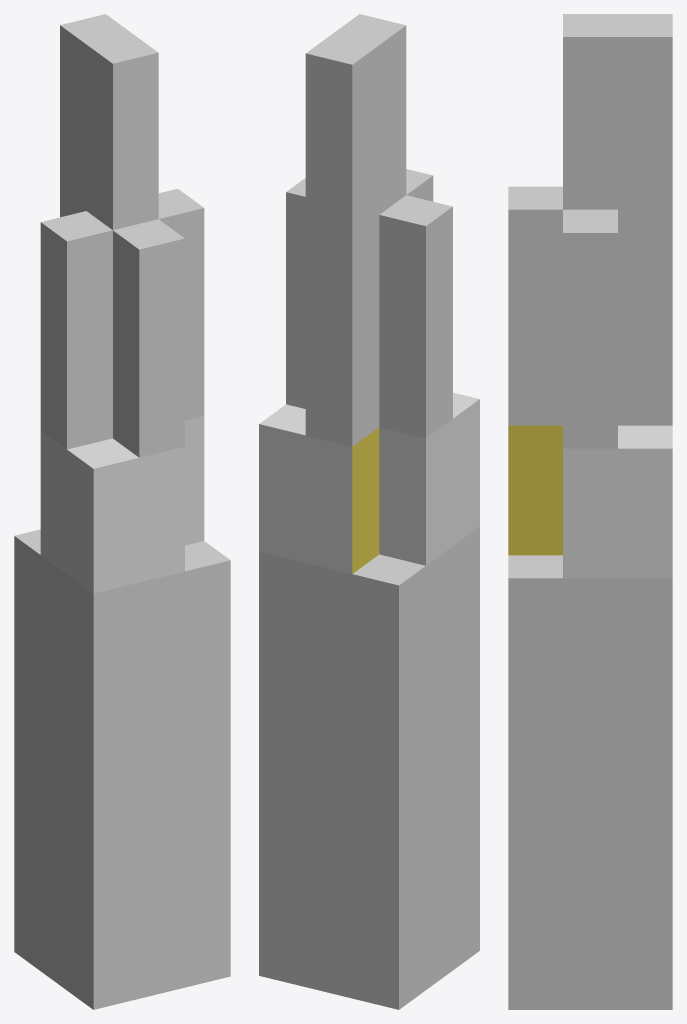
File: sears_tower.glb
The picture shows the model from 3 angles, left to right: view 1: azimuth 30°, elevation 25°; view 2: azimuth 150°, elevation 25°; view 3: azimuth 270°, elevation 25°; orthographic projection. The views are drawn at different scales.
Parts seen in each view (by area): view 1: sect_a_50_50, sect_c_90_25, sect_b_66_15, sect_d_110_20; view 2: sect_a_50_50, sect_c_90_25, sect_b_66_15, sect_d_110_20; view 3: sect_a_50_50, sect_c_90_25, sect_b_66_15, sect_d_110_20.
Boxes of the visible parts, x1,y1,x2,y2 form: sect_a_50_50: [14, 529, 230, 1009]; sect_c_90_25: [40, 188, 204, 457]; sect_b_66_15: [40, 416, 204, 593]; sect_d_110_20: [60, 14, 158, 229]; sect_a_50_50: [259, 526, 479, 1009]; sect_c_90_25: [286, 169, 452, 446]; sect_b_66_15: [259, 392, 479, 573]; sect_d_110_20: [305, 14, 406, 234]; sect_a_50_50: [508, 555, 672, 1009]; sect_c_90_25: [508, 186, 672, 448]; sect_b_66_15: [508, 425, 672, 578]; sect_d_110_20: [563, 14, 672, 209].
Size of the model in its own units: 69 by 440 by 69.
